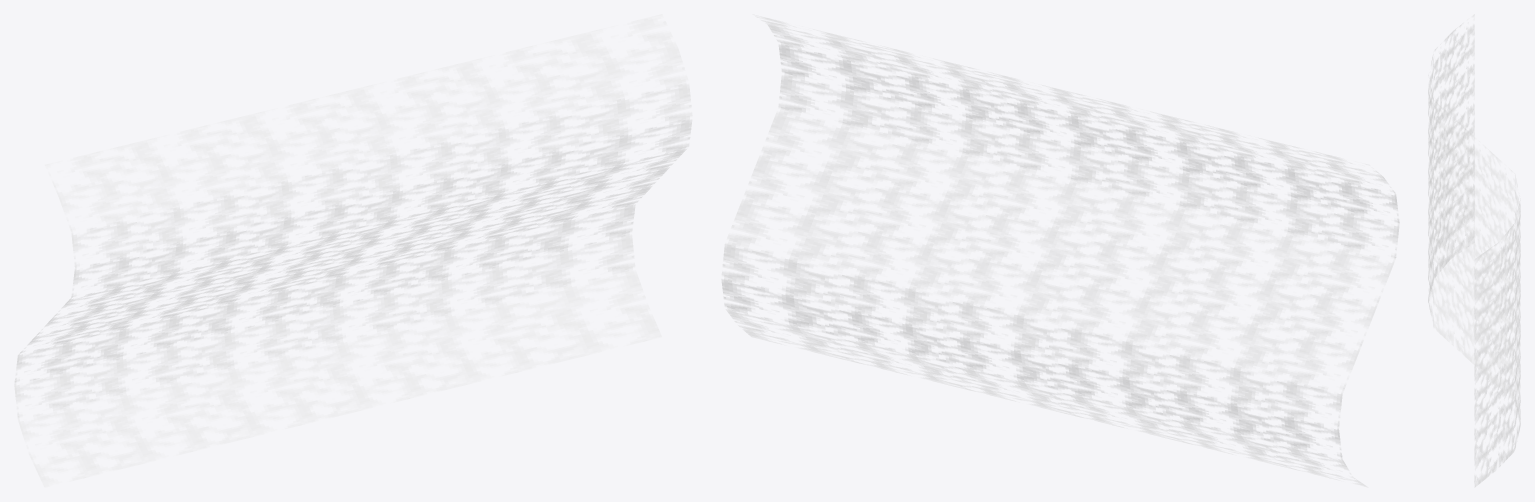
File: uvmd-0220.glb
3 renders of one model, left to right at view 1: azimuth 30°, elevation 25°; view 2: azimuth 150°, elevation 25°; view 3: azimuth 270°, elevation 25°, orthographic. The views are drawn at different scales.
Parts seen in each view (by area): view 1: uvmd-0220; view 2: uvmd-0220; view 3: uvmd-0220.
Part boxes in pixels (x1,y1,x2,y2): uvmd-0220: (14, 14, 692, 487); uvmd-0220: (721, 14, 1399, 487); uvmd-0220: (1428, 14, 1520, 486).
Bounding box in the file's own units: 200 × 100 × 34.
Materials: 1 (1 with a texture image).
